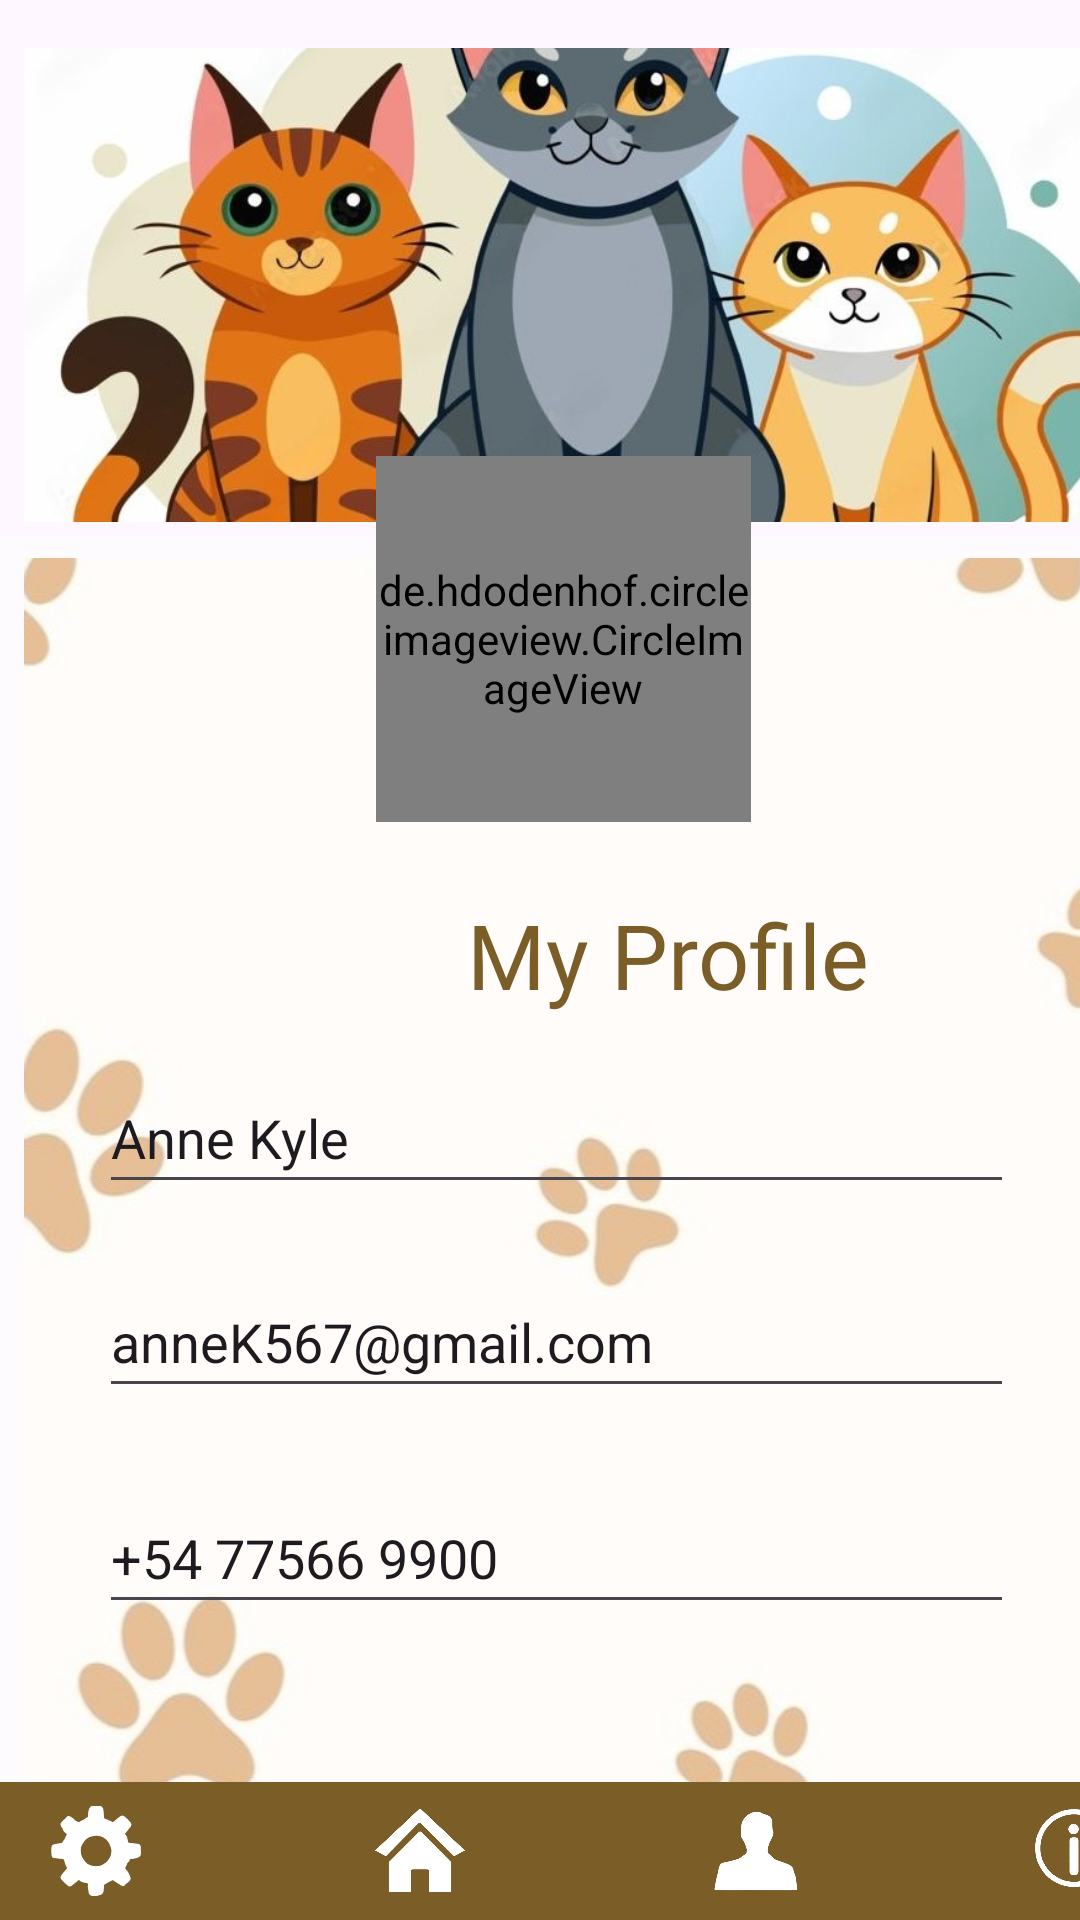

Icon bounding boxes for this 1080px x 1920px phone screenshot, format (x1, y1, x2, y2):
home: (375, 1809, 465, 1892)
